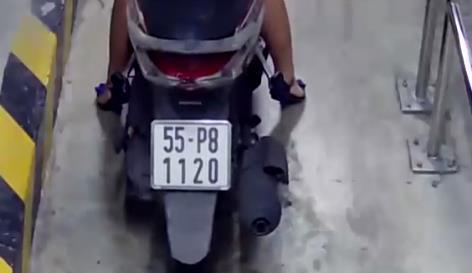lisence: (148, 119, 231, 190)
